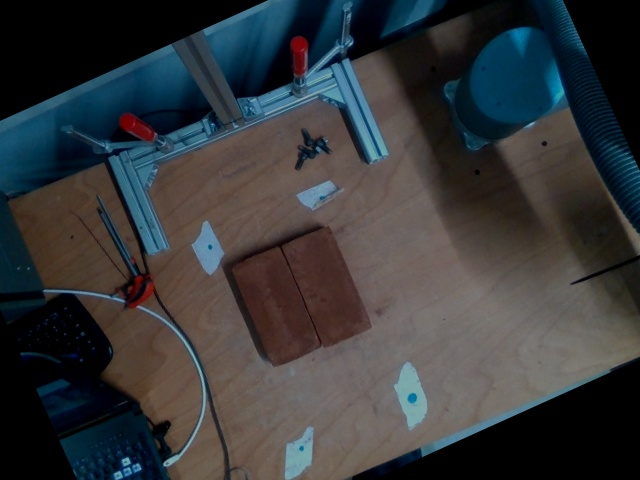brick: (282, 226, 373, 347), (232, 247, 323, 367)
